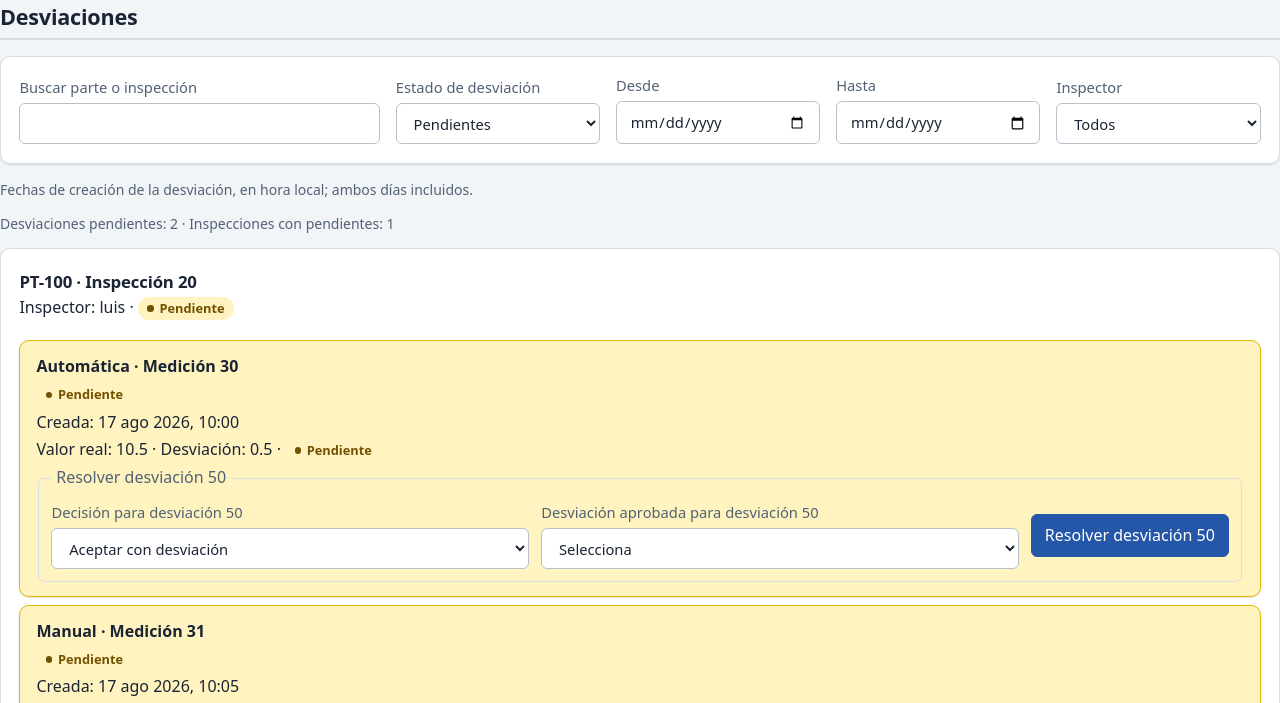
lets an administrator accept with an active approved-deviation entry
Select "DEV-7 — Uso aprobado" in the dropdown labelled "Desviación aprobada para desviación 50" at (780, 549), box [541,528,1019,569]
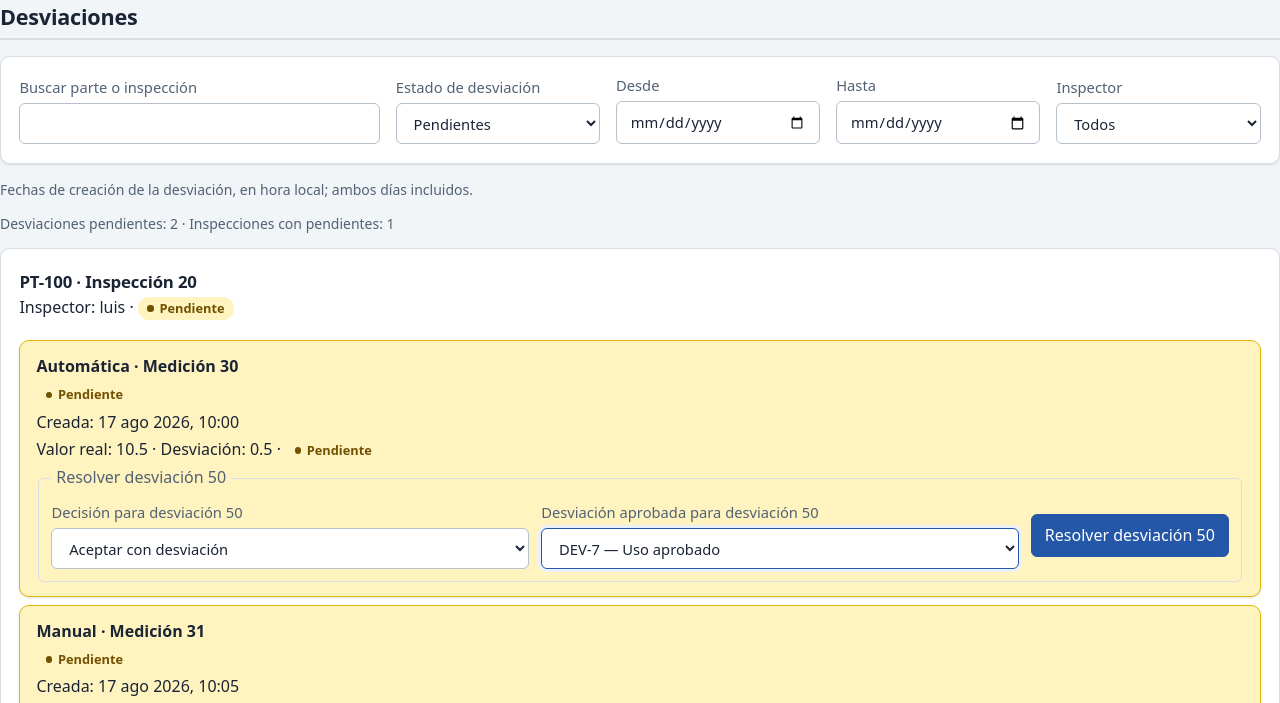
Click the button "Resolver desviación 50" at (1130, 536), box [1031,514,1229,557]
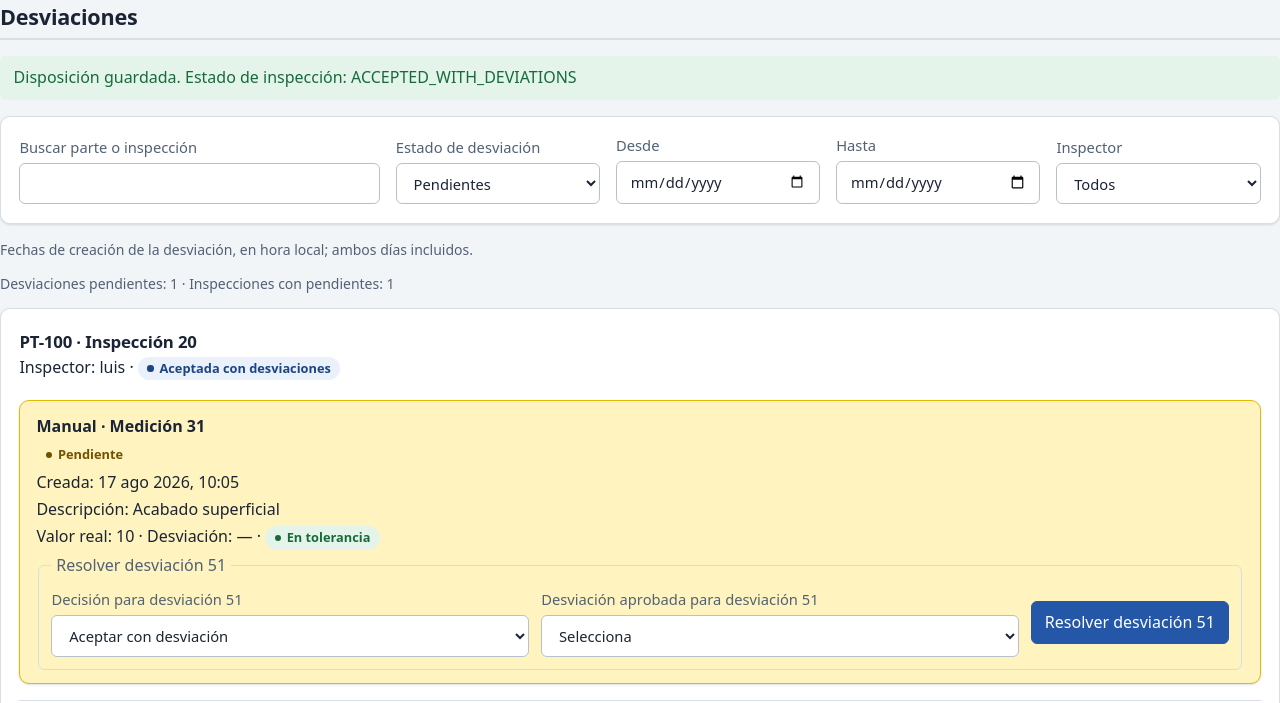
Expected: the message shows "Estado de inspección: ACCEPTED_WITH_DEVIATIONS", [14,66,577,88]
